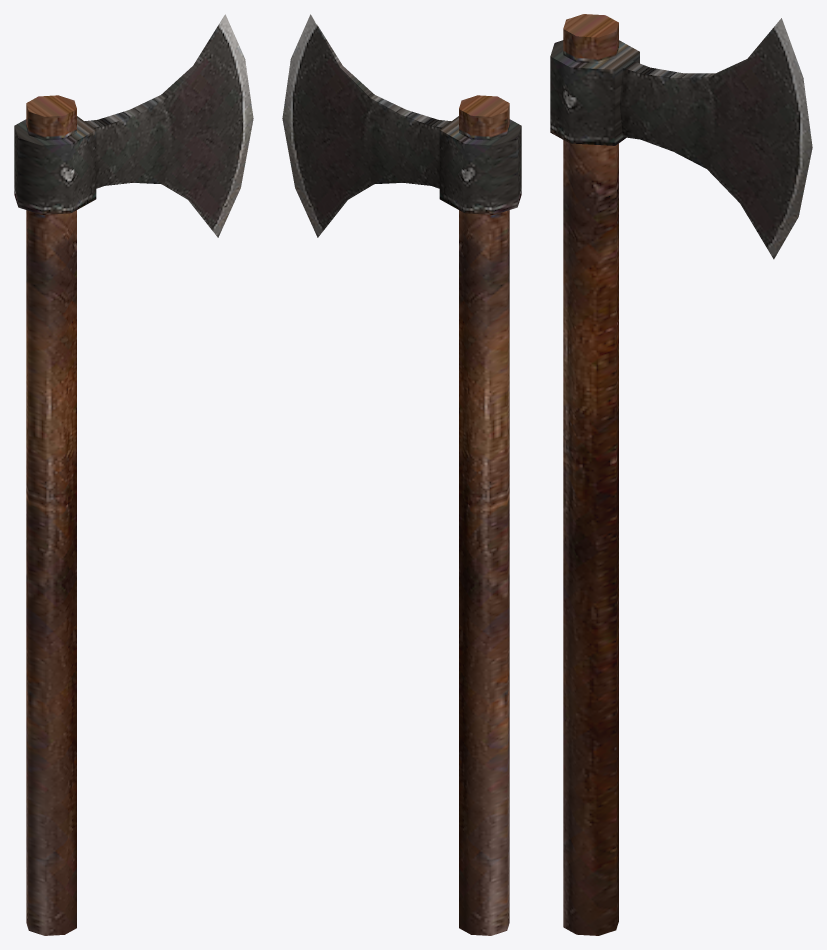
Rendered from Light Axe.fbx.
The picture shows the model from 3 angles, left to right: view 1: azimuth 30°, elevation 25°; view 2: azimuth 150°, elevation 25°; view 3: azimuth 330°, elevation 25°; orthographic projection. The views are drawn at different scales.
Parts seen in each view (by area): view 1: Light Axe; view 2: Light Axe; view 3: Light Axe.
Boxes of the visible parts, x1,y1,x2,y2 form: Light Axe: (14, 14, 253, 935); Light Axe: (282, 14, 521, 935); Light Axe: (550, 14, 812, 935).
Bounding box in the file's own units: 0.1717 × 0.6057 × 0.0487.
